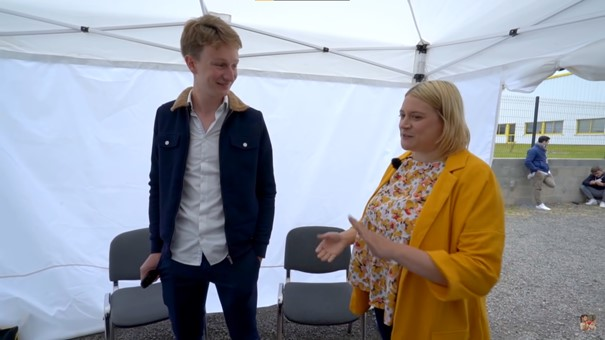without_mask: (183, 45, 241, 94), (394, 105, 447, 155)
